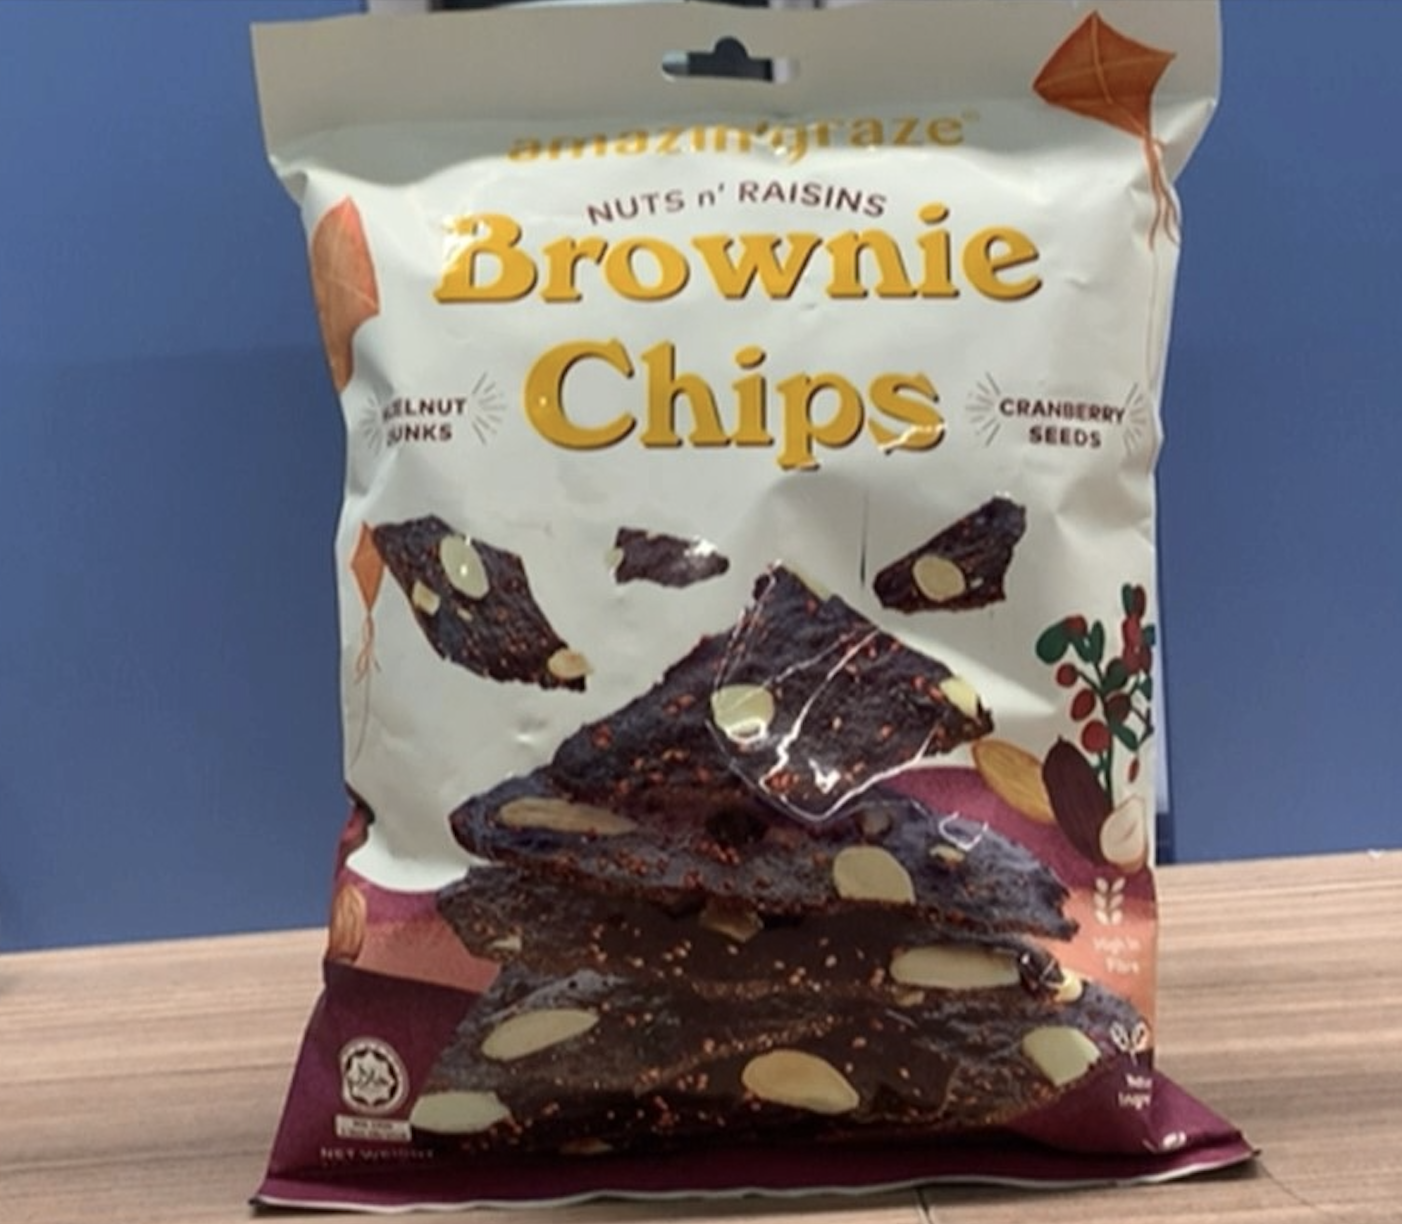crackers_100g-199g: (339, 141, 1144, 1157)
